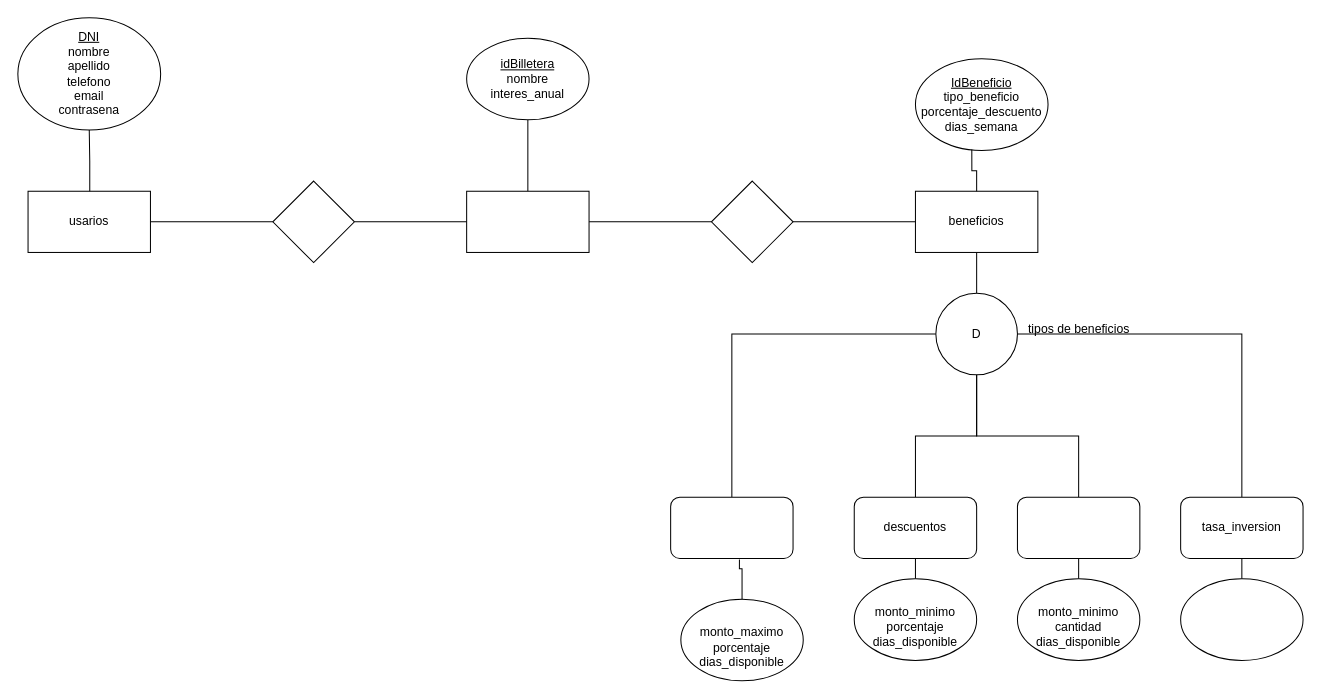
The diagram is 1321 pixels wide and 699 high, and some of its shapes have lost their labels. The centre of each missing label's shape, as x and y in pixels:
"billeteras" belongs at point 527,221.
"cuotas" belongs at point 1078,527.
"reintegros" belongs at point 731,527.
"seleciona" belongs at point 313,221.
"tasa_anual" belongs at point 1241,619.
"tiene" belongs at point 751,221.
